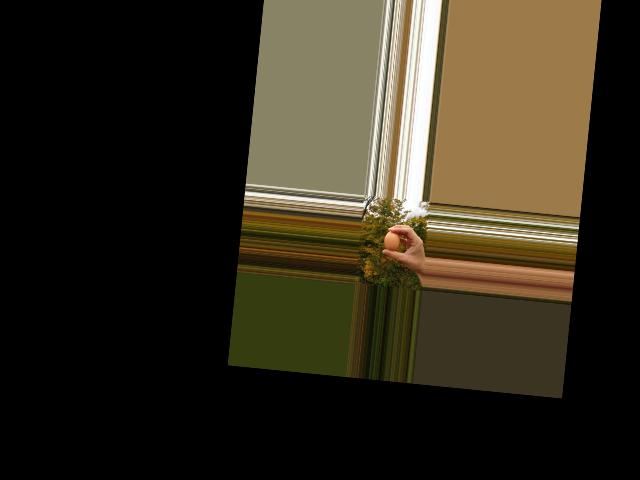egg: (383, 230, 400, 251)
